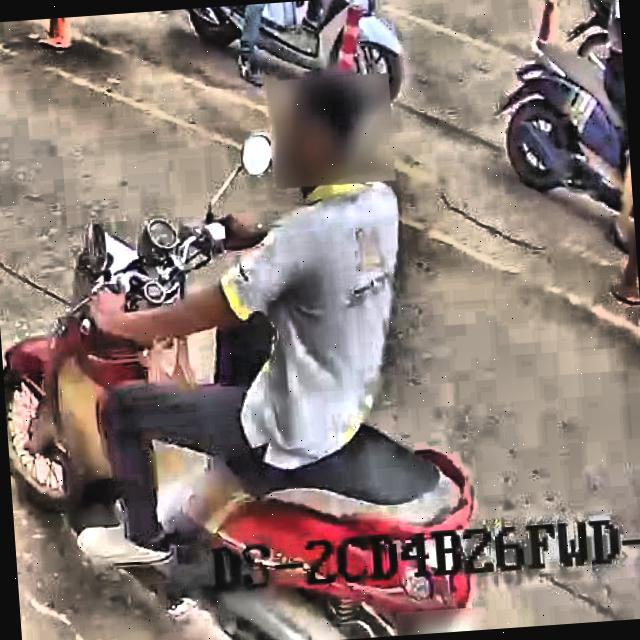motorcycle: (0, 124, 485, 640)
